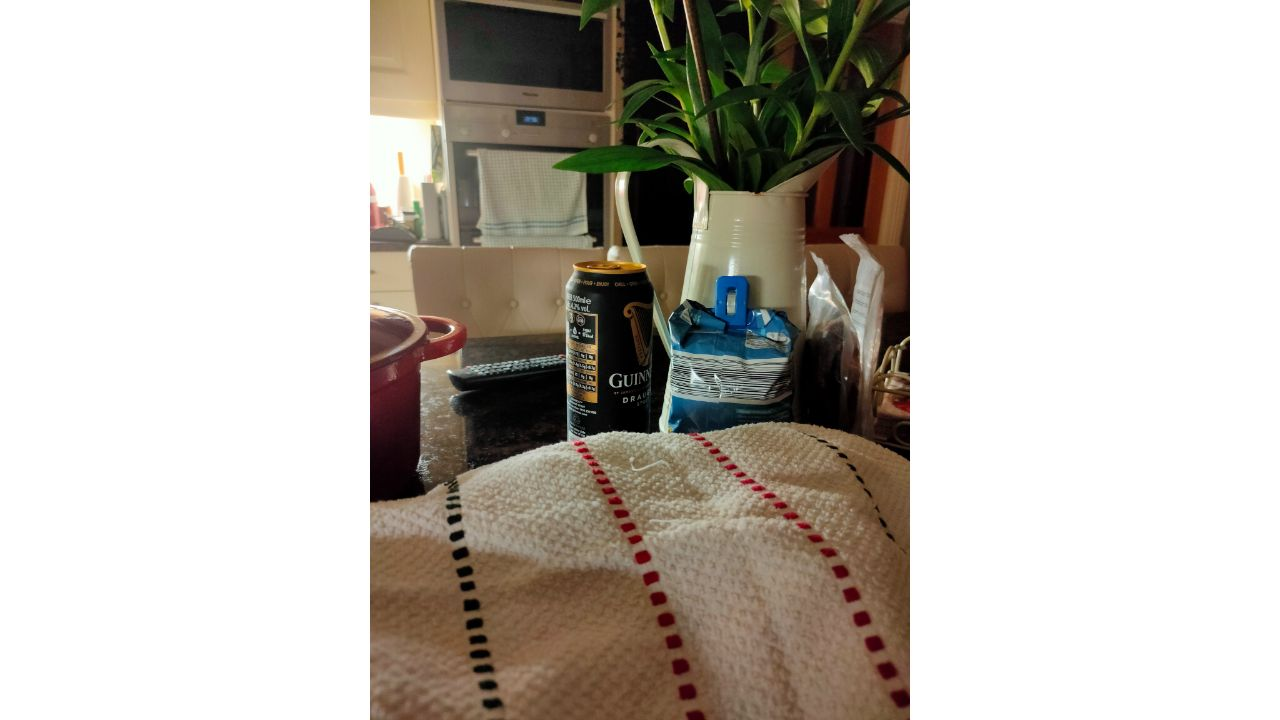Can: (565, 259, 655, 439)
